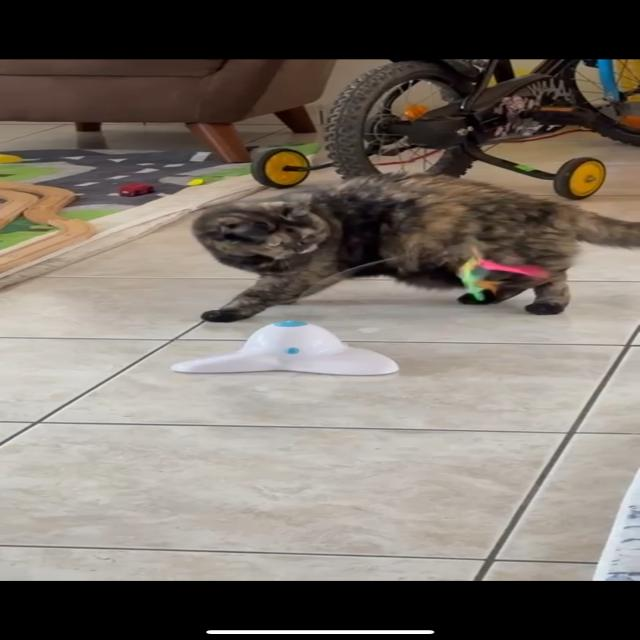authorized: (190, 170, 638, 323)
